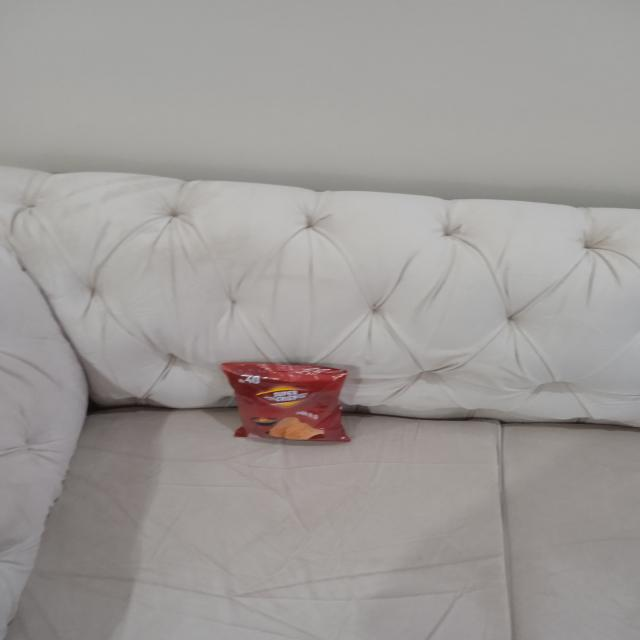Plastic: (217, 350, 357, 452)
